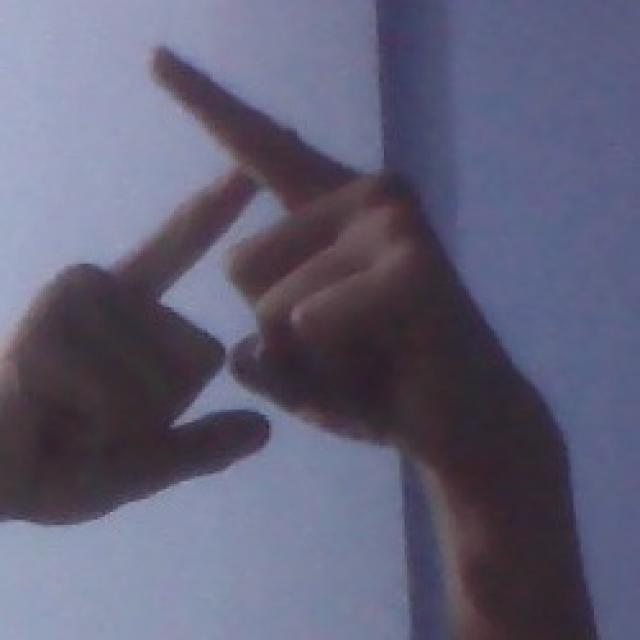Alphabet-X: (1, 42, 514, 550)
